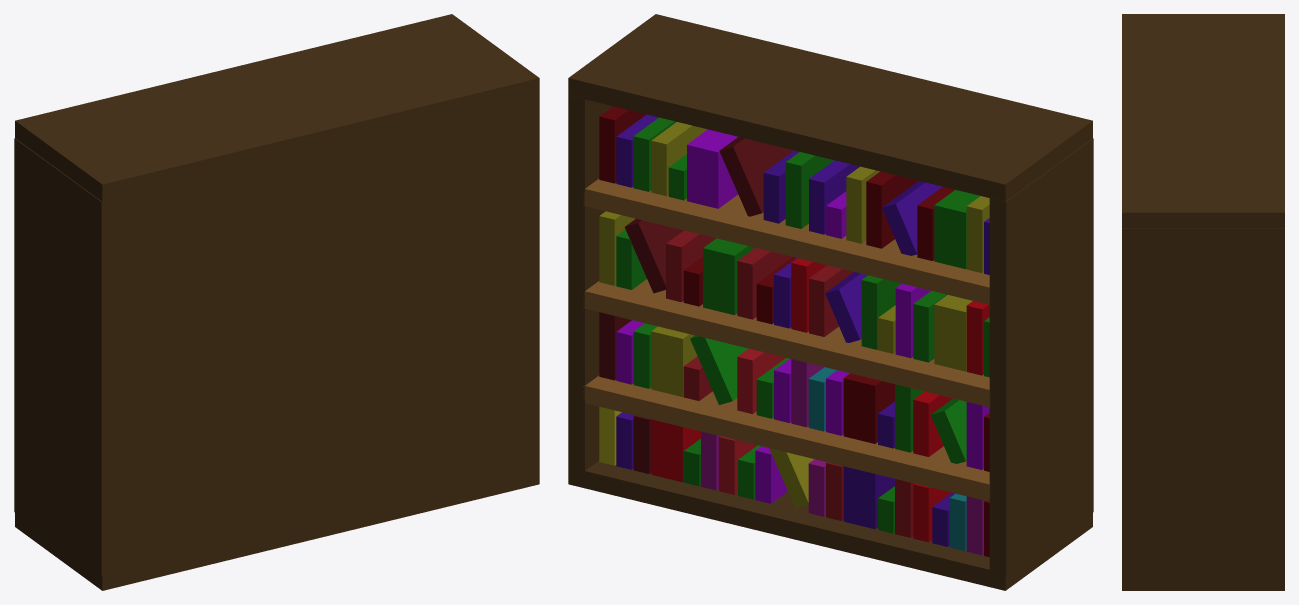
Rendered from bookshelf.glb.
3 views of the same model, side by side, from view 1: azimuth 30°, elevation 25°; view 2: azimuth 150°, elevation 25°; view 3: azimuth 270°, elevation 25° (orthographic). The views are drawn at different scales.
Visible parts, largest first — view 1: Cube.002, Cube.001, Cube.004, Cube, Cube.003; view 2: Cube.001, Cube.004, Cube, Cube.007, Cube.006, Cube.005, Cube.003, Cube.081, Cube.072, Cube.037, Cube.050, Cube.074 (+67 smaller); view 3: Cube.003, Cube.001, Cube.
Boxes of the visible parts, x1,y1,x2,y2 form: Cube.002: (111, 95, 530, 571); Cube.001: (15, 14, 539, 201); Cube.004: (14, 138, 117, 575); Cube: (15, 468, 539, 590); Cube.003: (523, 95, 539, 473); Cube.001: (568, 14, 1092, 201); Cube.004: (989, 138, 1093, 575); Cube: (568, 461, 1092, 590); Cube.007: (583, 179, 990, 304); Cube.006: (583, 279, 990, 407); Cube.005: (583, 375, 990, 501); Cube.003: (568, 95, 612, 472); Cube.081: (687, 129, 738, 208); Cube.072: (719, 137, 793, 216); Cube.037: (843, 373, 894, 443); Cube.050: (703, 238, 754, 315); Cube.074: (934, 190, 979, 269); Cube.003: (1122, 228, 1284, 574); Cube.001: (1122, 14, 1284, 228); Cube: (1122, 575, 1284, 590).
Size of the model in its own units: 23.37 by 20.72 by 8.09.
